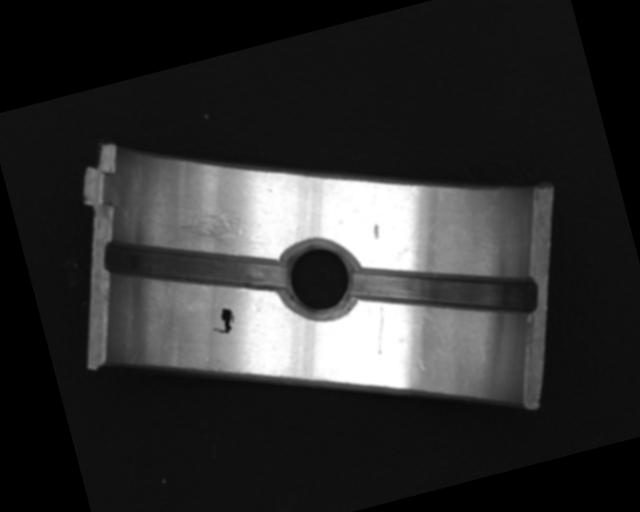blot: (207, 304, 238, 337)
bruise: (369, 222, 383, 241)
gap: (100, 202, 290, 330), (347, 227, 540, 352)
hole: (272, 233, 368, 329)
nick: (367, 305, 396, 355)
scratch: (150, 200, 266, 276)
